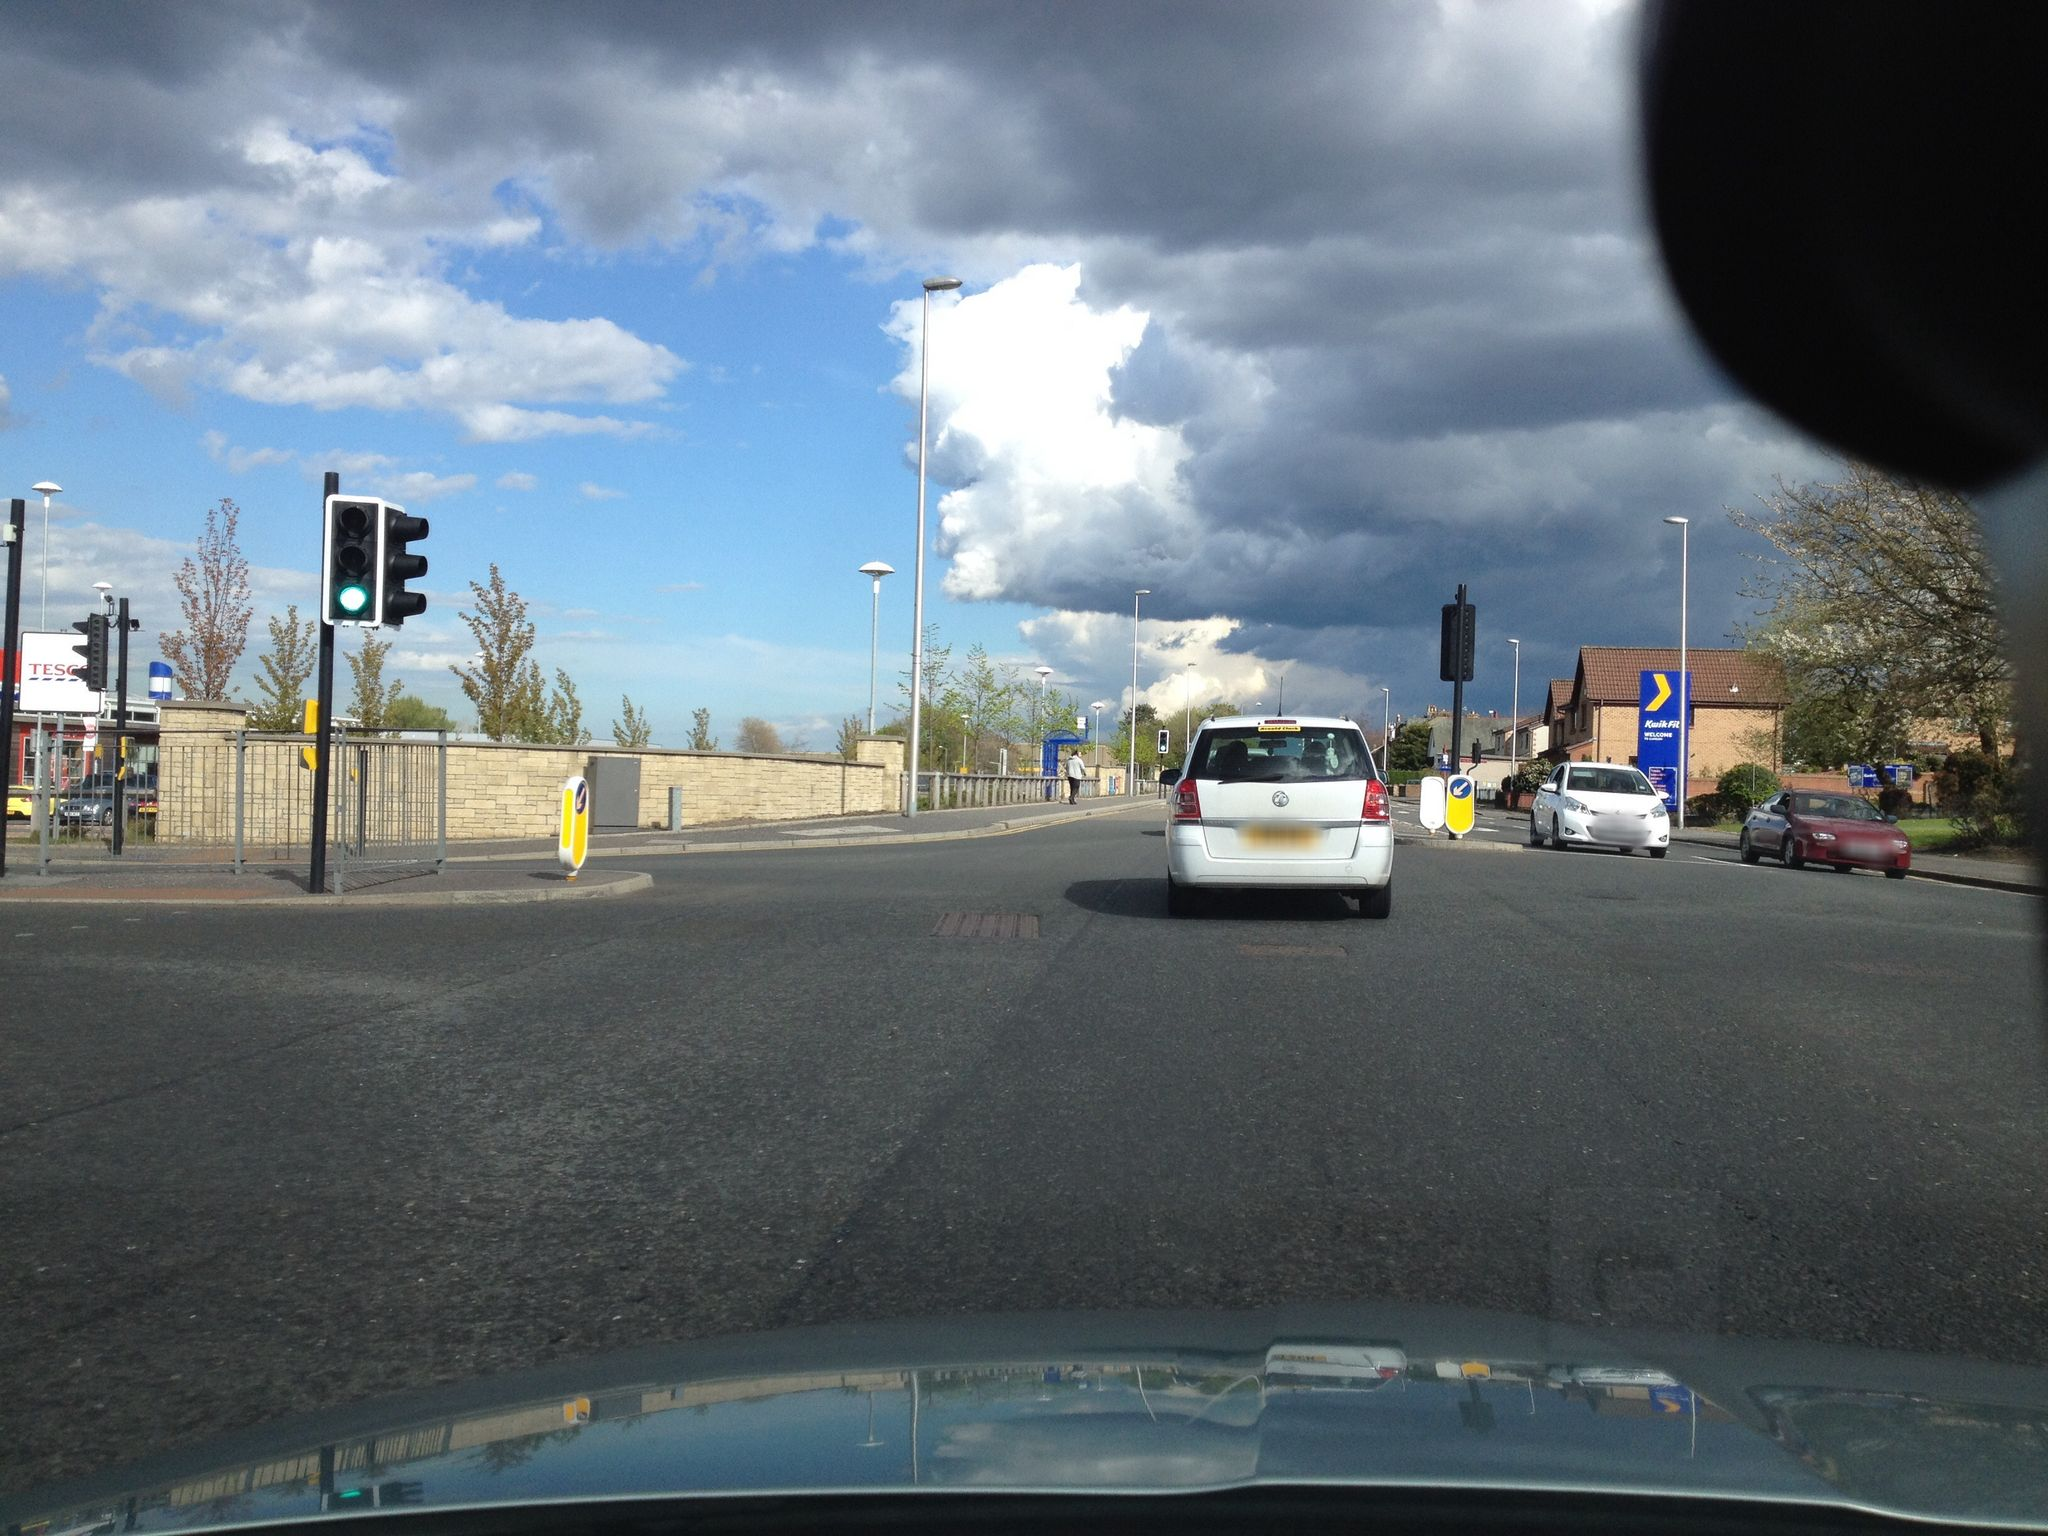car: (1130, 699, 1401, 937), (1740, 787, 1913, 879), (1529, 758, 1671, 858)
